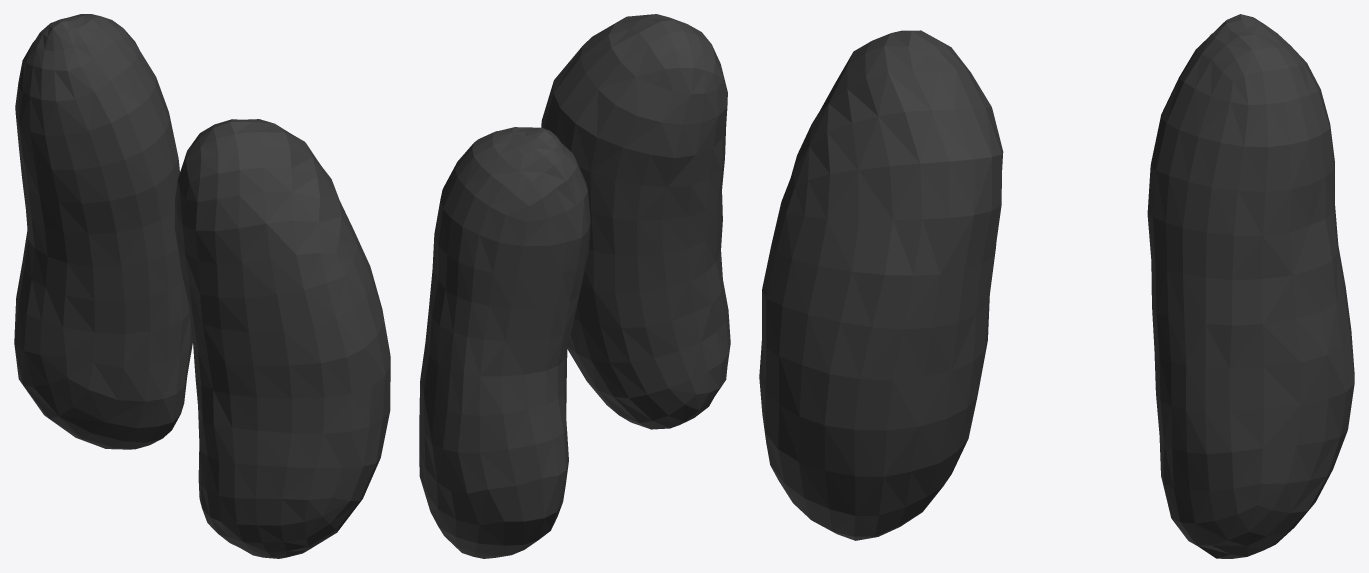
File: proximal_sesamoid_V_L.glb
3 views of the same model, side by side, from view 1: azimuth 30°, elevation 25°; view 2: azimuth 150°, elevation 25°; view 3: azimuth 270°, elevation 25° (orthographic). The views are drawn at different scales.
Visible parts, largest first — view 1: proximal_sesamoid_V_L; view 2: proximal_sesamoid_V_L; view 3: proximal_sesamoid_V_L.
Part boxes in pixels (<box>): proximal_sesamoid_V_L: <box>14,14,390,558</box>; proximal_sesamoid_V_L: <box>419,14,730,558</box>; proximal_sesamoid_V_L: <box>759,14,1354,558</box>.
Bounding box in the file's own units: 0.00541 × 0.0117 × 0.0125.
1 material, 1 textured.
